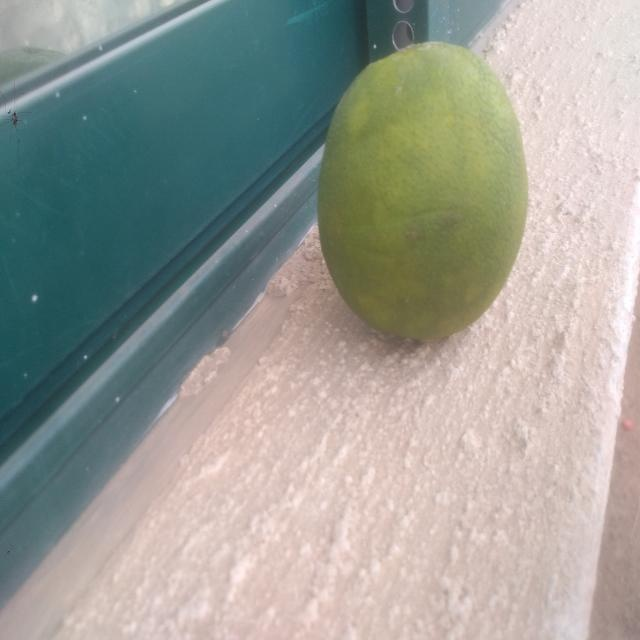agrume: (303, 29, 551, 369)
